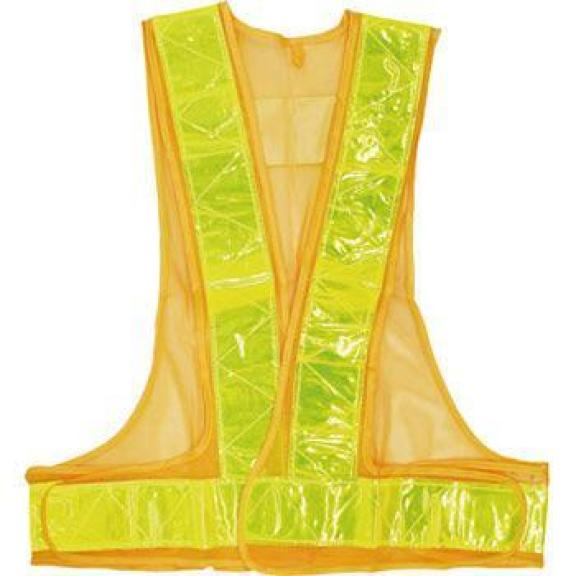safety_vest: (23, 10, 550, 574)
